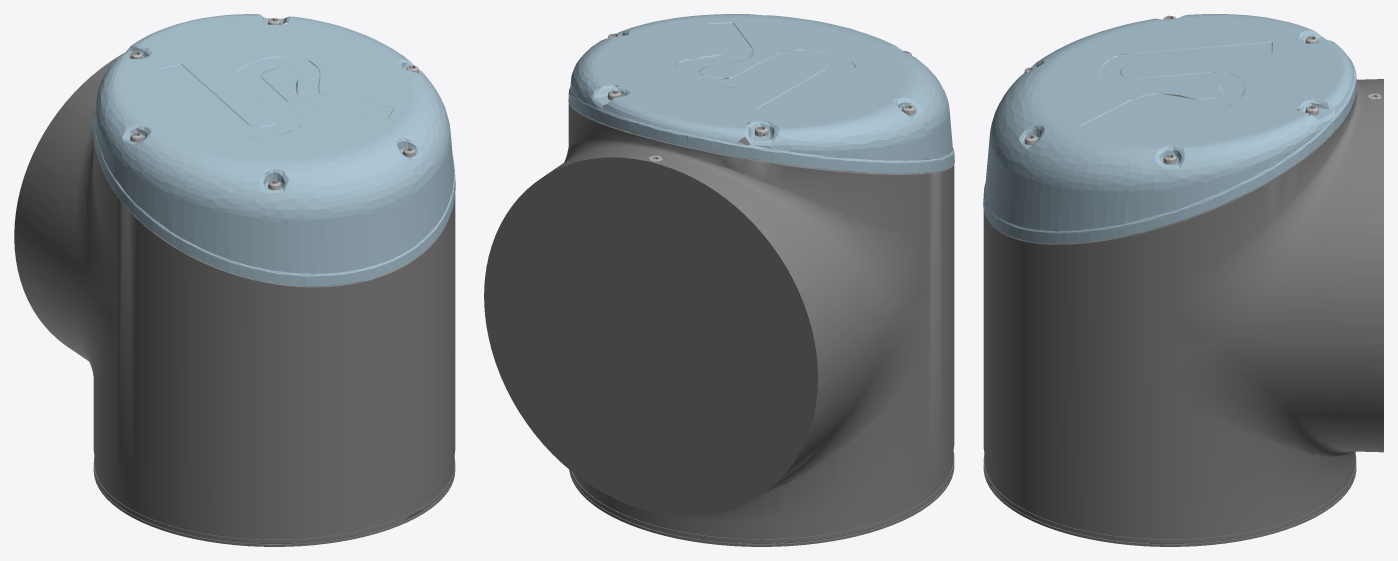
File: shoulder.gltf
3 renders of one model, left to right at view 1: azimuth 30°, elevation 25°; view 2: azimuth 150°, elevation 25°; view 3: azimuth 270°, elevation 25°, orthographic. The views are drawn at different scales.
Visible parts, largest first — view 1: shape0-mesh_1, node-shape1-name, node-shape2-name; view 2: shape0-mesh_1, node-shape1-name; view 3: shape0-mesh_1, node-shape1-name, node-shape2-name.
Part boxes in pixels (<box>): shape0-mesh_1: <box>14,53,455,546</box>; node-shape1-name: <box>93,14,455,286</box>; node-shape2-name: <box>130,18,418,190</box>; shape0-mesh_1: <box>484,86,954,546</box>; node-shape1-name: <box>568,14,954,173</box>; shape0-mesh_1: <box>983,79,1383,546</box>; node-shape1-name: <box>983,14,1356,243</box>; node-shape2-name: <box>1024,15,1381,164</box>.
Bounding box in the file's own units: 0.1503 × 0.1772 × 0.1612.
